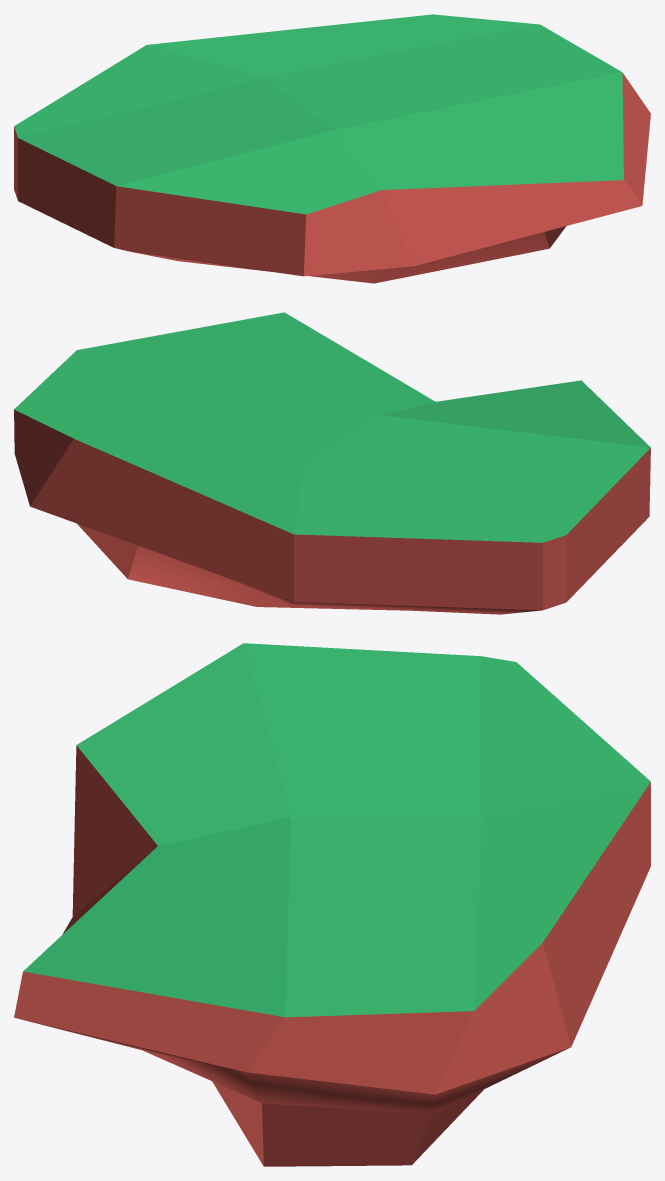
File: lacune.fbx_Platform003.fbx
3 views of the same model, one above another, from view 1: azimuth 30°, elevation 25°; view 2: azimuth 150°, elevation 25°; view 3: azimuth 270°, elevation 25° (orthographic). The views are drawn at different scales.
Parts seen in each view (by area): view 1: Platform003; view 2: Platform003; view 3: Platform003.
Boxes of the visible parts, left/top/right/bottom form: Platform003: left=14, top=14, right=650, bottom=283; Platform003: left=14, top=312, right=650, bottom=614; Platform003: left=14, top=643, right=650, bottom=1166.
Size of what is drawn, in the model's own units: 1998 by 635 by 1509.
